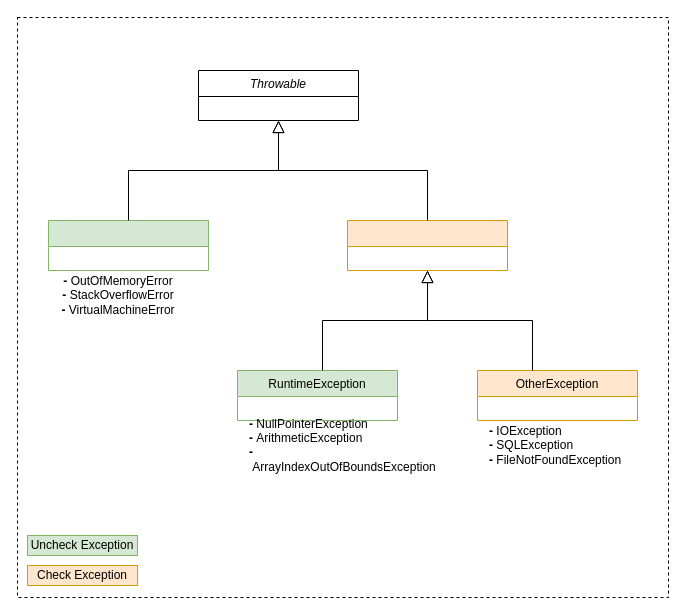
This 686x615 diagram has some shape labels left out. Here are the shapes that lost their labels. From the top down, the centre of each, then its label:
At point (128, 245): "Error".
At point (427, 245): "Exception".
